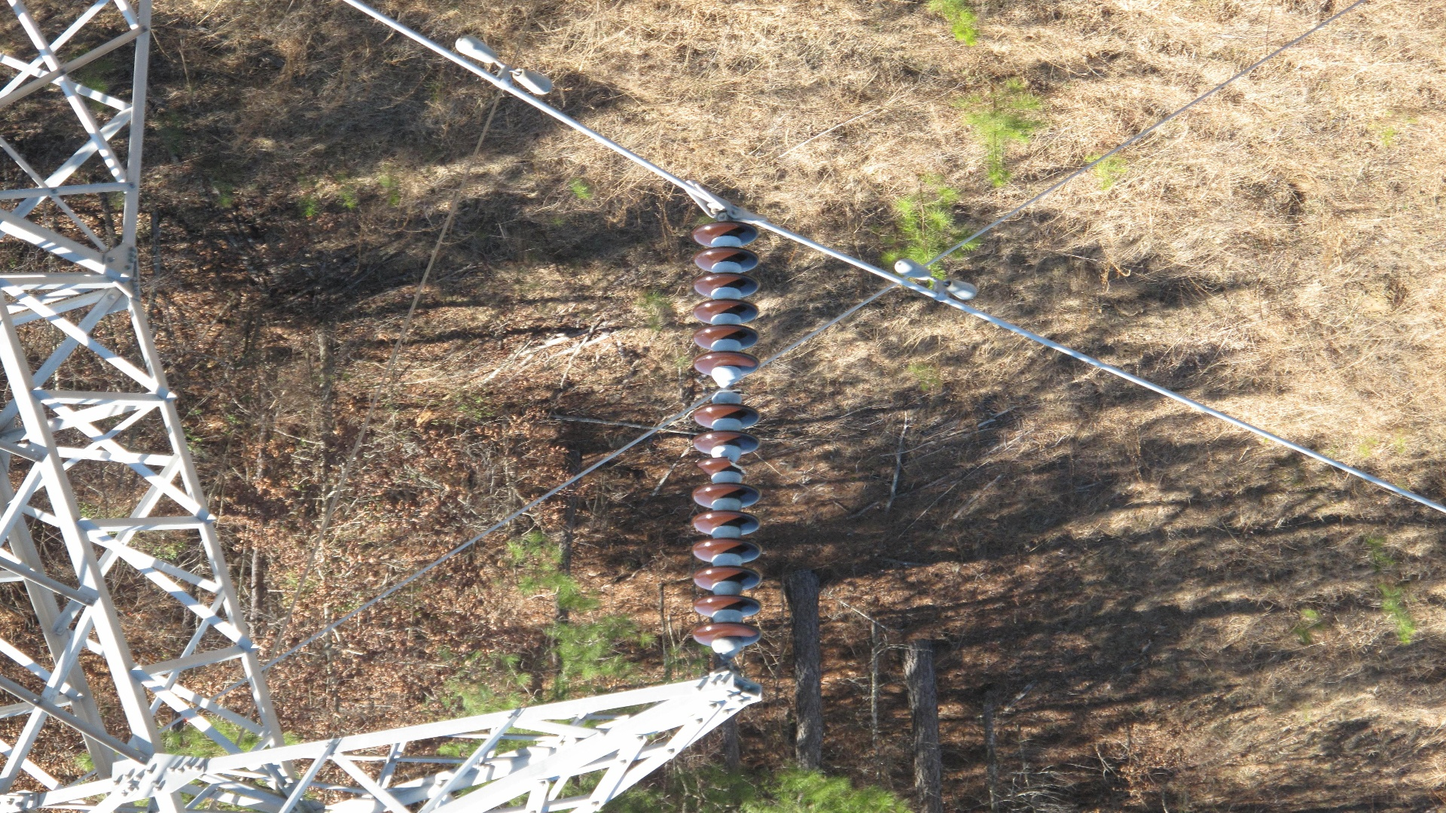insulator: (691, 403, 764, 647), (689, 218, 763, 376)
insulator_breakage: (725, 453, 748, 478), (694, 461, 713, 477)
